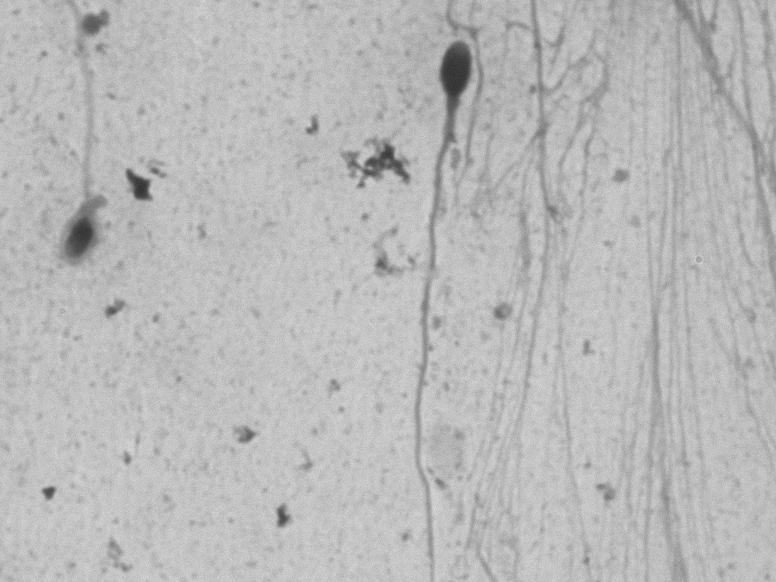Abnormal: (31, 52, 142, 293)
Normal: (374, 32, 483, 555)
